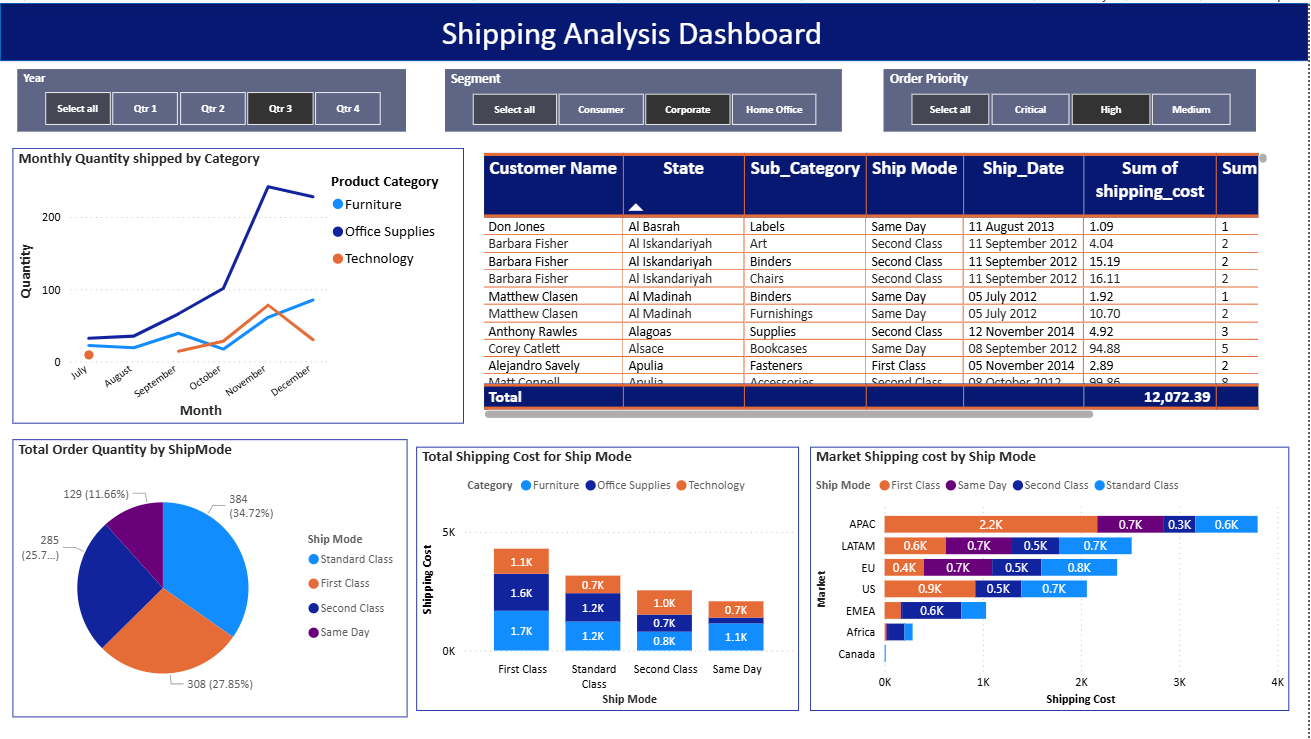

The page's visual inventory and layout, read from the dashboard file:
{"tool":"powerbi","page":{"name":"ShippingDashboard","canvas":[1280,720],"ordinal":2},"visuals":[{"type":"shape","box":[0,0,1280.2,57],"z":0},{"type":"textbox","title":"Shipping Analysis Dashboard","box":[372.1,9.3,493,38.4],"z":1000},{"type":"slicer","title":"Year","fields":{"Values":["SuperStoreOrders2.order_date.Variation.Date Hierarchy.Quarter"]},"box":[17.4,65.1,380.2,60.5],"z":2000},{"type":"slicer","title":"Segment","fields":{"Values":["SuperStoreOrders2.segment"]},"box":[434.9,65.1,388.4,60.5],"z":3000},{"type":"barChart","title":"Market Shipping cost by Ship Mode","fields":{"Y":["SuperStoreOrders2.shipping_cost"],"Series":["SuperStoreOrders2.ship_mode"],"Category":["SuperStoreOrders2.Market"]},"box":[791.9,433.7,468.6,258.1],"z":4000},{"type":"columnChart","title":"Total Shipping Cost for Ship Mode ","fields":{"Y":["SuperStoreOrders2.shipping_cost"],"Series":["SuperStoreOrders2.Category"],"Category":["SuperStoreOrders2.ship_mode"]},"box":[407,433.7,374.4,258.1],"z":5000},{"type":"lineChart","title":"Monthly Quantity shipped by Category","fields":{"Category":["SuperStoreOrders2.Ship_Date.Variation.Date Hierarchy.Month"],"Series":["SuperStoreOrders2.Category"],"Y":["SuperStoreOrders2.quantity"]},"box":[11.6,141.9,441.9,269.8],"z":6000},{"type":"pieChart","title":"Total Order Quantity by ShipMode","fields":{"Y":["SuperStoreOrders2.quantity"],"Category":["SuperStoreOrders2.ship_mode"]},"box":[11.6,426.7,386,272.1],"z":7000},{"type":"slicer","title":"Order Priority","fields":{"Values":["SuperStoreOrders2.order_priority"]},"box":[865.1,65.1,364,60.5],"z":8000},{"type":"tableEx","fields":{"Values":["SuperStoreOrders2.customer_name","SuperStoreOrders2.State","SuperStoreOrders2.Sub_Category","SuperStoreOrders2.ship_mode","SuperStoreOrders2.ship_date","SuperStoreOrders2.shipping_cost","SuperStoreOrders2.quantity","SuperStoreOrders2.sales"]},"box":[467.4,141.9,777.9,269.8],"z":9000}]}

Visuals, with their boxes in screenshot pixels (x1, y1, x2, y2), scaled from the page's 1280x720 canvas onto the 1311x739 screenshot:
shape: <box>0,0,1310,59</box>
"Shipping Analysis Dashboard" textbox: <box>381,10,886,49</box>
"Year" slicer: <box>18,67,407,129</box>
"Segment" slicer: <box>445,67,843,129</box>
"Market Shipping cost by Ship Mode" barChart: <box>811,445,1291,710</box>
"Total Shipping Cost for Ship Mode " columnChart: <box>417,445,800,710</box>
"Monthly Quantity shipped by Category" lineChart: <box>12,146,464,423</box>
"Total Order Quantity by ShipMode" pieChart: <box>12,438,407,717</box>
"Order Priority" slicer: <box>886,67,1259,129</box>
tableEx - SuperStoreOrders2.customer_name x SuperStoreOrders2.State: <box>479,146,1275,423</box>
